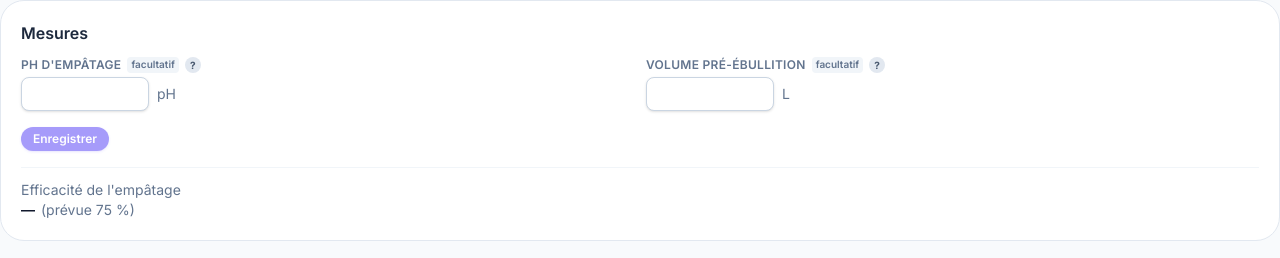
Test case: MeasurementsPanel : écritures concurrentes entre appareils › sauvegarde toujours à la sortie ce que l’utilisateur a saisi
Type "12.5" into the number field named "Volume pré-ébullition" at (710, 94), box x1=646 y1=77 x2=774 y2=111
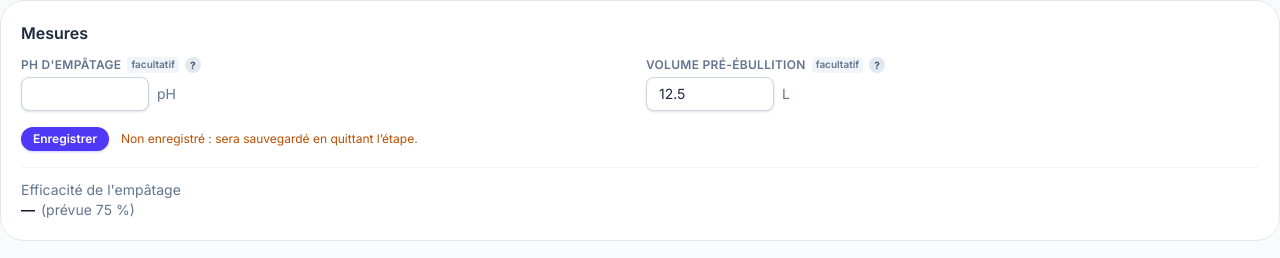
Expected: the text "Non enregistré : sera sauvegardé en quittant l’étape." is shown, x1=121 y1=131 x2=418 y2=147
